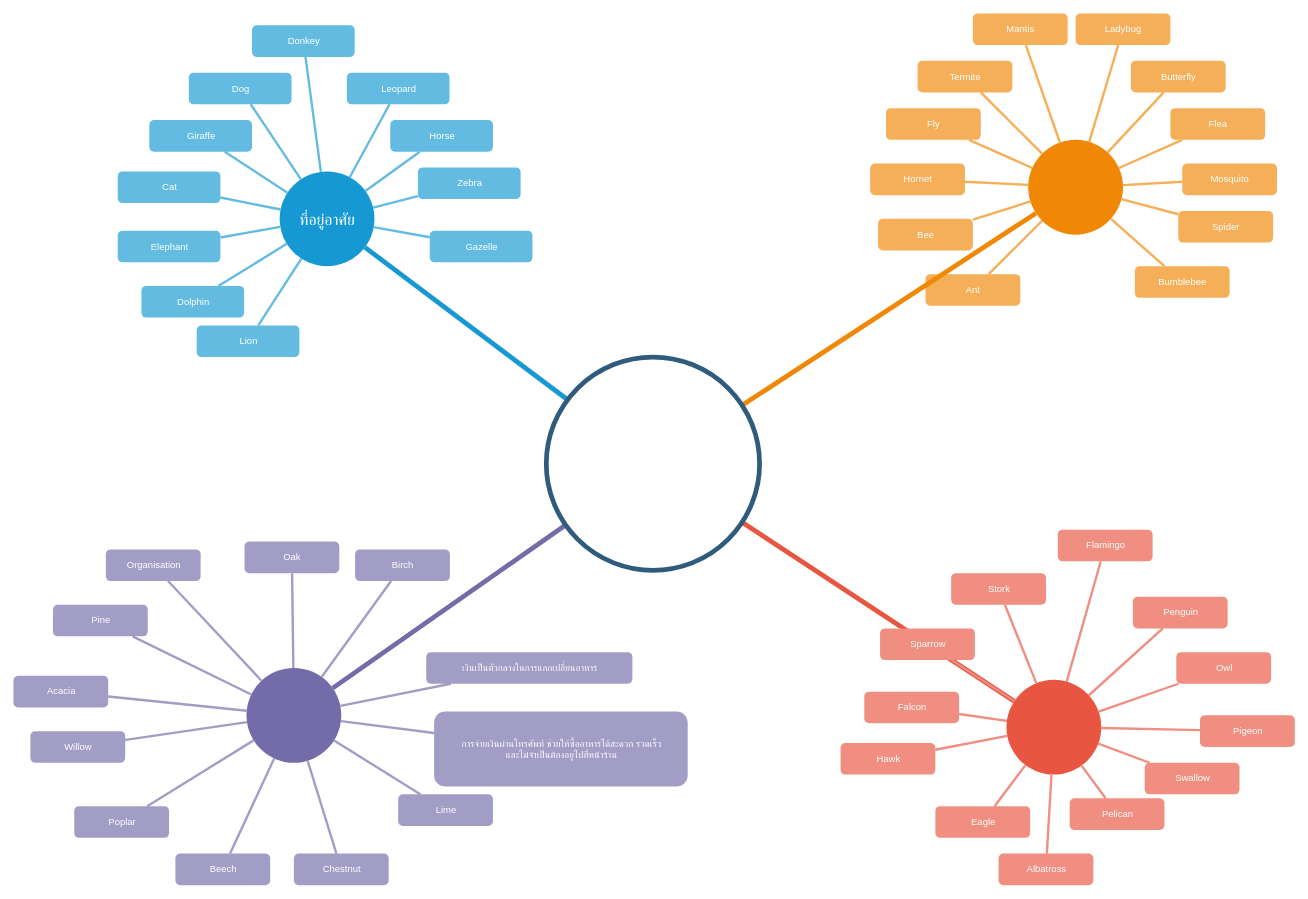
Some shapes in this 1308 by 899 pixel diagram are drawn without their labels. Each missing label, with the centre of its shape:
"ยารักษาโรค" belongs at (x=1053, y=726).
"อาหาร" belongs at (x=293, y=715).
"เครื่องนุ่งห่ม" belongs at (x=1075, y=186).
"เทคโนโลยีการเงินและการพาณิชย์ & ปัจจัย 4" belongs at (x=653, y=463).
